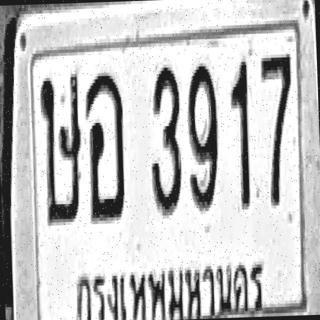A39: (39, 70, 84, 226)
A43: (84, 72, 126, 221)
N01: (228, 57, 252, 208)
N03: (148, 64, 182, 216)
N07: (260, 51, 295, 205)
N09: (185, 63, 220, 211)
